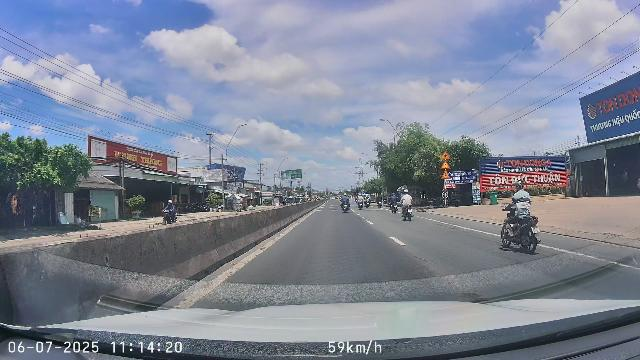207-giao-nhau-voi-duong-khong-uu-tien: (441, 151, 450, 159)
209-giao-nhau-co-tin-hieu-den: (441, 160, 451, 169)
224-duong-nguoi-di-bo-cat-ngang: (441, 170, 450, 179)
